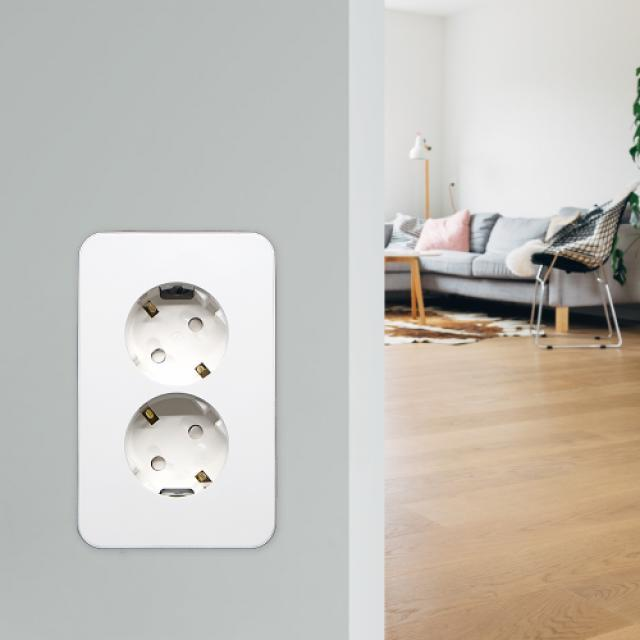typeb: (35, 169, 324, 619)
